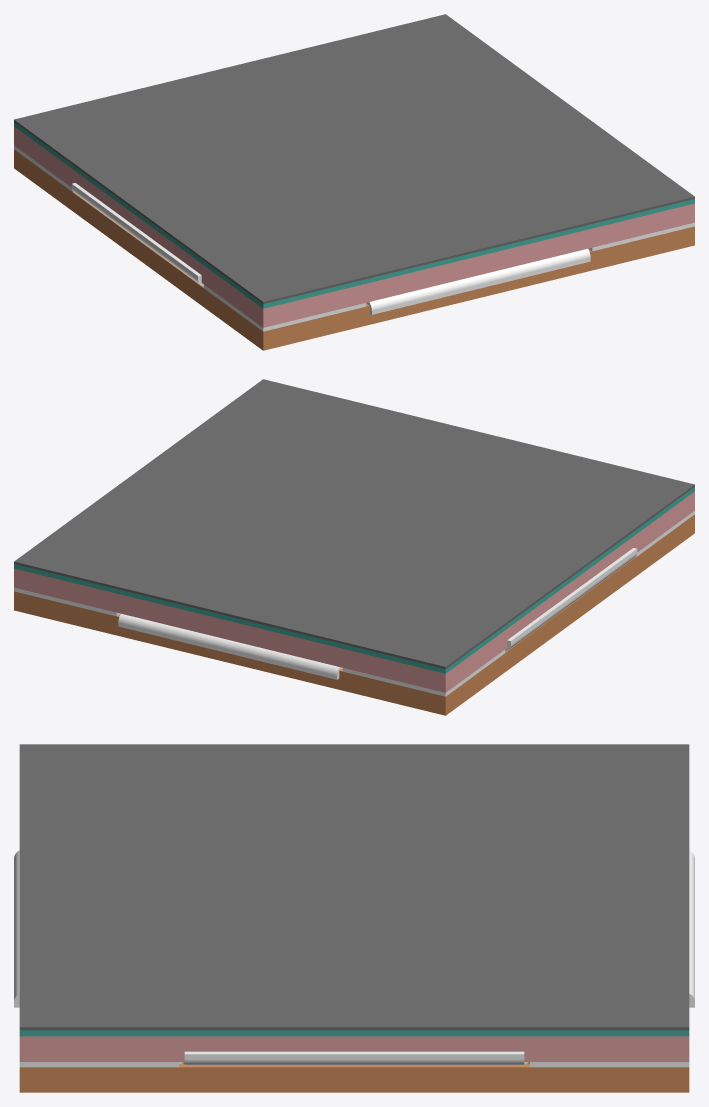
Rendered from GYM_DROP.fbx.
3 views of the same model, one above another, from view 1: azimuth 30°, elevation 25°; view 2: azimuth 150°, elevation 25°; view 3: azimuth 270°, elevation 25° (orthographic). The views are drawn at different scales.
Parts seen in each view (by area): view 1: 6A2010E3F137BFDFB83E14531E03EC527B1AFED7|:|B8A4396250C5687B1, 89BE45617CC3D25A0209C3D9A4B8268F1D346F58|:|B8A4396250C5687B1, C8FF651876A0B07A549BF7A2F2101D5E0C8D6CC5|:|B8A4396250C5687B1, A2BB16DEF38329FF8C44C4065E6D862BA7D119C2|:|B8A4396250C5687B1, A6A3EB74C4B29BC8E95E8D5BC85DF50E48700730|:|B8A4396250C5687B1; view 2: 6A2010E3F137BFDFB83E14531E03EC527B1AFED7|:|B8A4396250C5687B1, 89BE45617CC3D25A0209C3D9A4B8268F1D346F58|:|B8A4396250C5687B1, C8FF651876A0B07A549BF7A2F2101D5E0C8D6CC5|:|B8A4396250C5687B1, A2BB16DEF38329FF8C44C4065E6D862BA7D119C2|:|B8A4396250C5687B1, A6A3EB74C4B29BC8E95E8D5BC85DF50E48700730|:|B8A4396250C5687B1; view 3: 6A2010E3F137BFDFB83E14531E03EC527B1AFED7|:|B8A4396250C5687B1, C8FF651876A0B07A549BF7A2F2101D5E0C8D6CC5|:|B8A4396250C5687B1, 89BE45617CC3D25A0209C3D9A4B8268F1D346F58|:|B8A4396250C5687B1, A2BB16DEF38329FF8C44C4065E6D862BA7D119C2|:|B8A4396250C5687B1, A6A3EB74C4B29BC8E95E8D5BC85DF50E48700730|:|B8A4396250C5687B1.
Boxes of the visible parts, left/top/right/bottom form: 6A2010E3F137BFDFB83E14531E03EC527B1AFED7|:|B8A4396250C5687B1: left=14, top=14, right=694, bottom=304; 89BE45617CC3D25A0209C3D9A4B8268F1D346F58|:|B8A4396250C5687B1: left=14, top=126, right=694, bottom=327; C8FF651876A0B07A549BF7A2F2101D5E0C8D6CC5|:|B8A4396250C5687B1: left=14, top=149, right=694, bottom=350; A2BB16DEF38329FF8C44C4065E6D862BA7D119C2|:|B8A4396250C5687B1: left=14, top=146, right=694, bottom=331; A6A3EB74C4B29BC8E95E8D5BC85DF50E48700730|:|B8A4396250C5687B1: left=14, top=122, right=694, bottom=308; 6A2010E3F137BFDFB83E14531E03EC527B1AFED7|:|B8A4396250C5687B1: left=14, top=379, right=694, bottom=669; 89BE45617CC3D25A0209C3D9A4B8268F1D346F58|:|B8A4396250C5687B1: left=14, top=491, right=694, bottom=692; C8FF651876A0B07A549BF7A2F2101D5E0C8D6CC5|:|B8A4396250C5687B1: left=14, top=514, right=694, bottom=715; A2BB16DEF38329FF8C44C4065E6D862BA7D119C2|:|B8A4396250C5687B1: left=14, top=511, right=694, bottom=696; A6A3EB74C4B29BC8E95E8D5BC85DF50E48700730|:|B8A4396250C5687B1: left=14, top=487, right=694, bottom=673; 6A2010E3F137BFDFB83E14531E03EC527B1AFED7|:|B8A4396250C5687B1: left=19, top=744, right=689, bottom=1030; C8FF651876A0B07A549BF7A2F2101D5E0C8D6CC5|:|B8A4396250C5687B1: left=19, top=1063, right=689, bottom=1092; 89BE45617CC3D25A0209C3D9A4B8268F1D346F58|:|B8A4396250C5687B1: left=19, top=1036, right=689, bottom=1061; A2BB16DEF38329FF8C44C4065E6D862BA7D119C2|:|B8A4396250C5687B1: left=14, top=850, right=694, bottom=1067; A6A3EB74C4B29BC8E95E8D5BC85DF50E48700730|:|B8A4396250C5687B1: left=19, top=1030, right=689, bottom=1036.
Bounding box in the file's own units: 5.65 × 0.6007 × 5.65.
